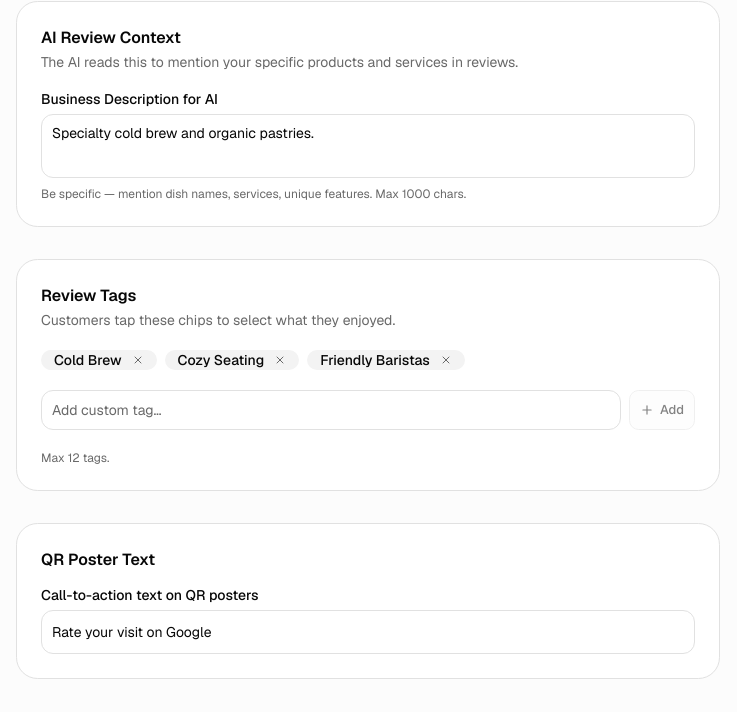
Test: MyBusinessForm Component Tests › removes an existing tag when clicking its remove icon
(page scrolled)
Expected: the text "Cozy Seating" is shown, [164,350,299,370]
// Find the remove button inside the Cozy Seating badge span
Click the button without text next to "Cozy Seating". click: coordinates (280, 360)
box: [274,354,286,366]
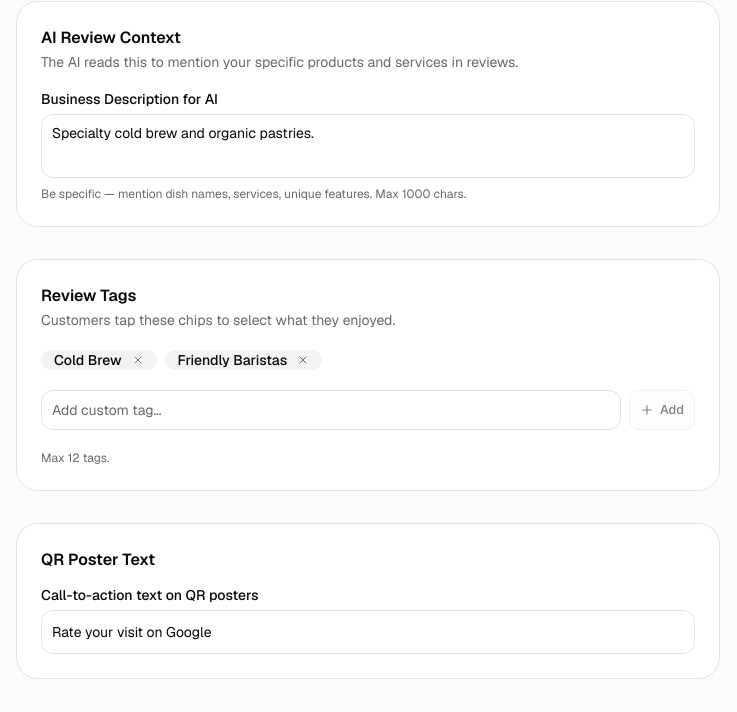
Now the text "Cozy Seating" is gone
